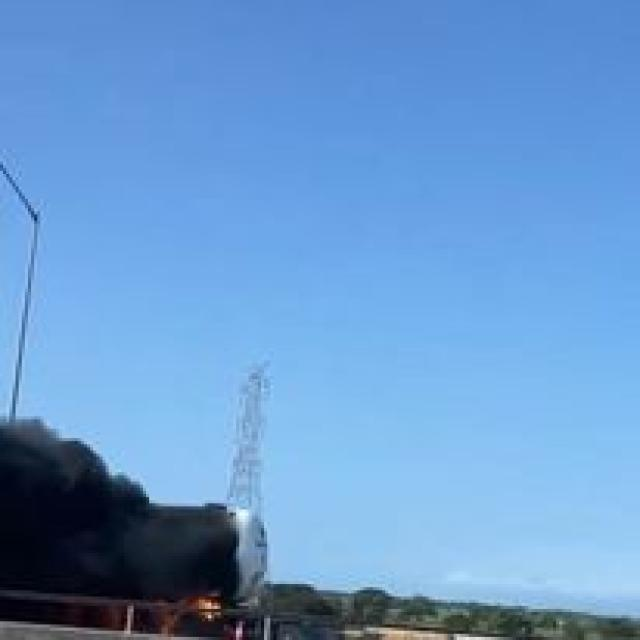Smoke: (3, 418, 240, 598)
